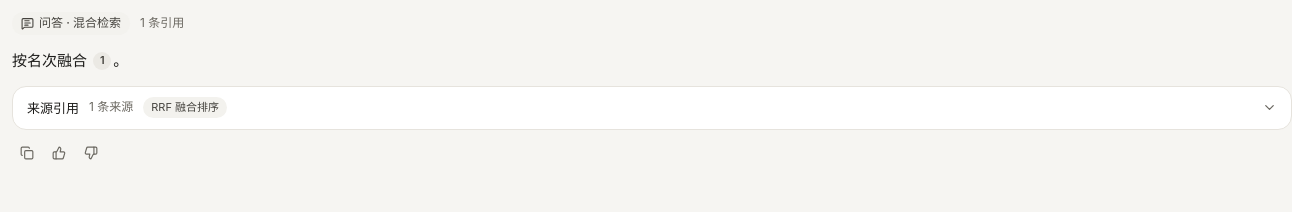
it: MessageBubble 检索改写、证据充分性与反馈 › 反馈提交失败时恢复按钮状态并提示
Click the button named "回答有帮助".
click(59, 153)  # box [44,138,74,168]
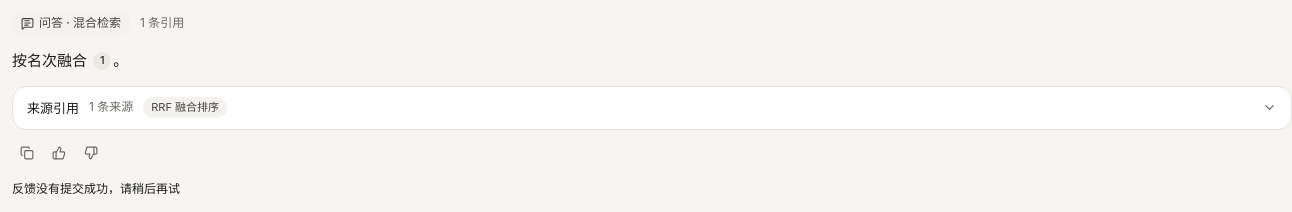
Expected: the message shows "没有提交成功", [12,181,180,196]
